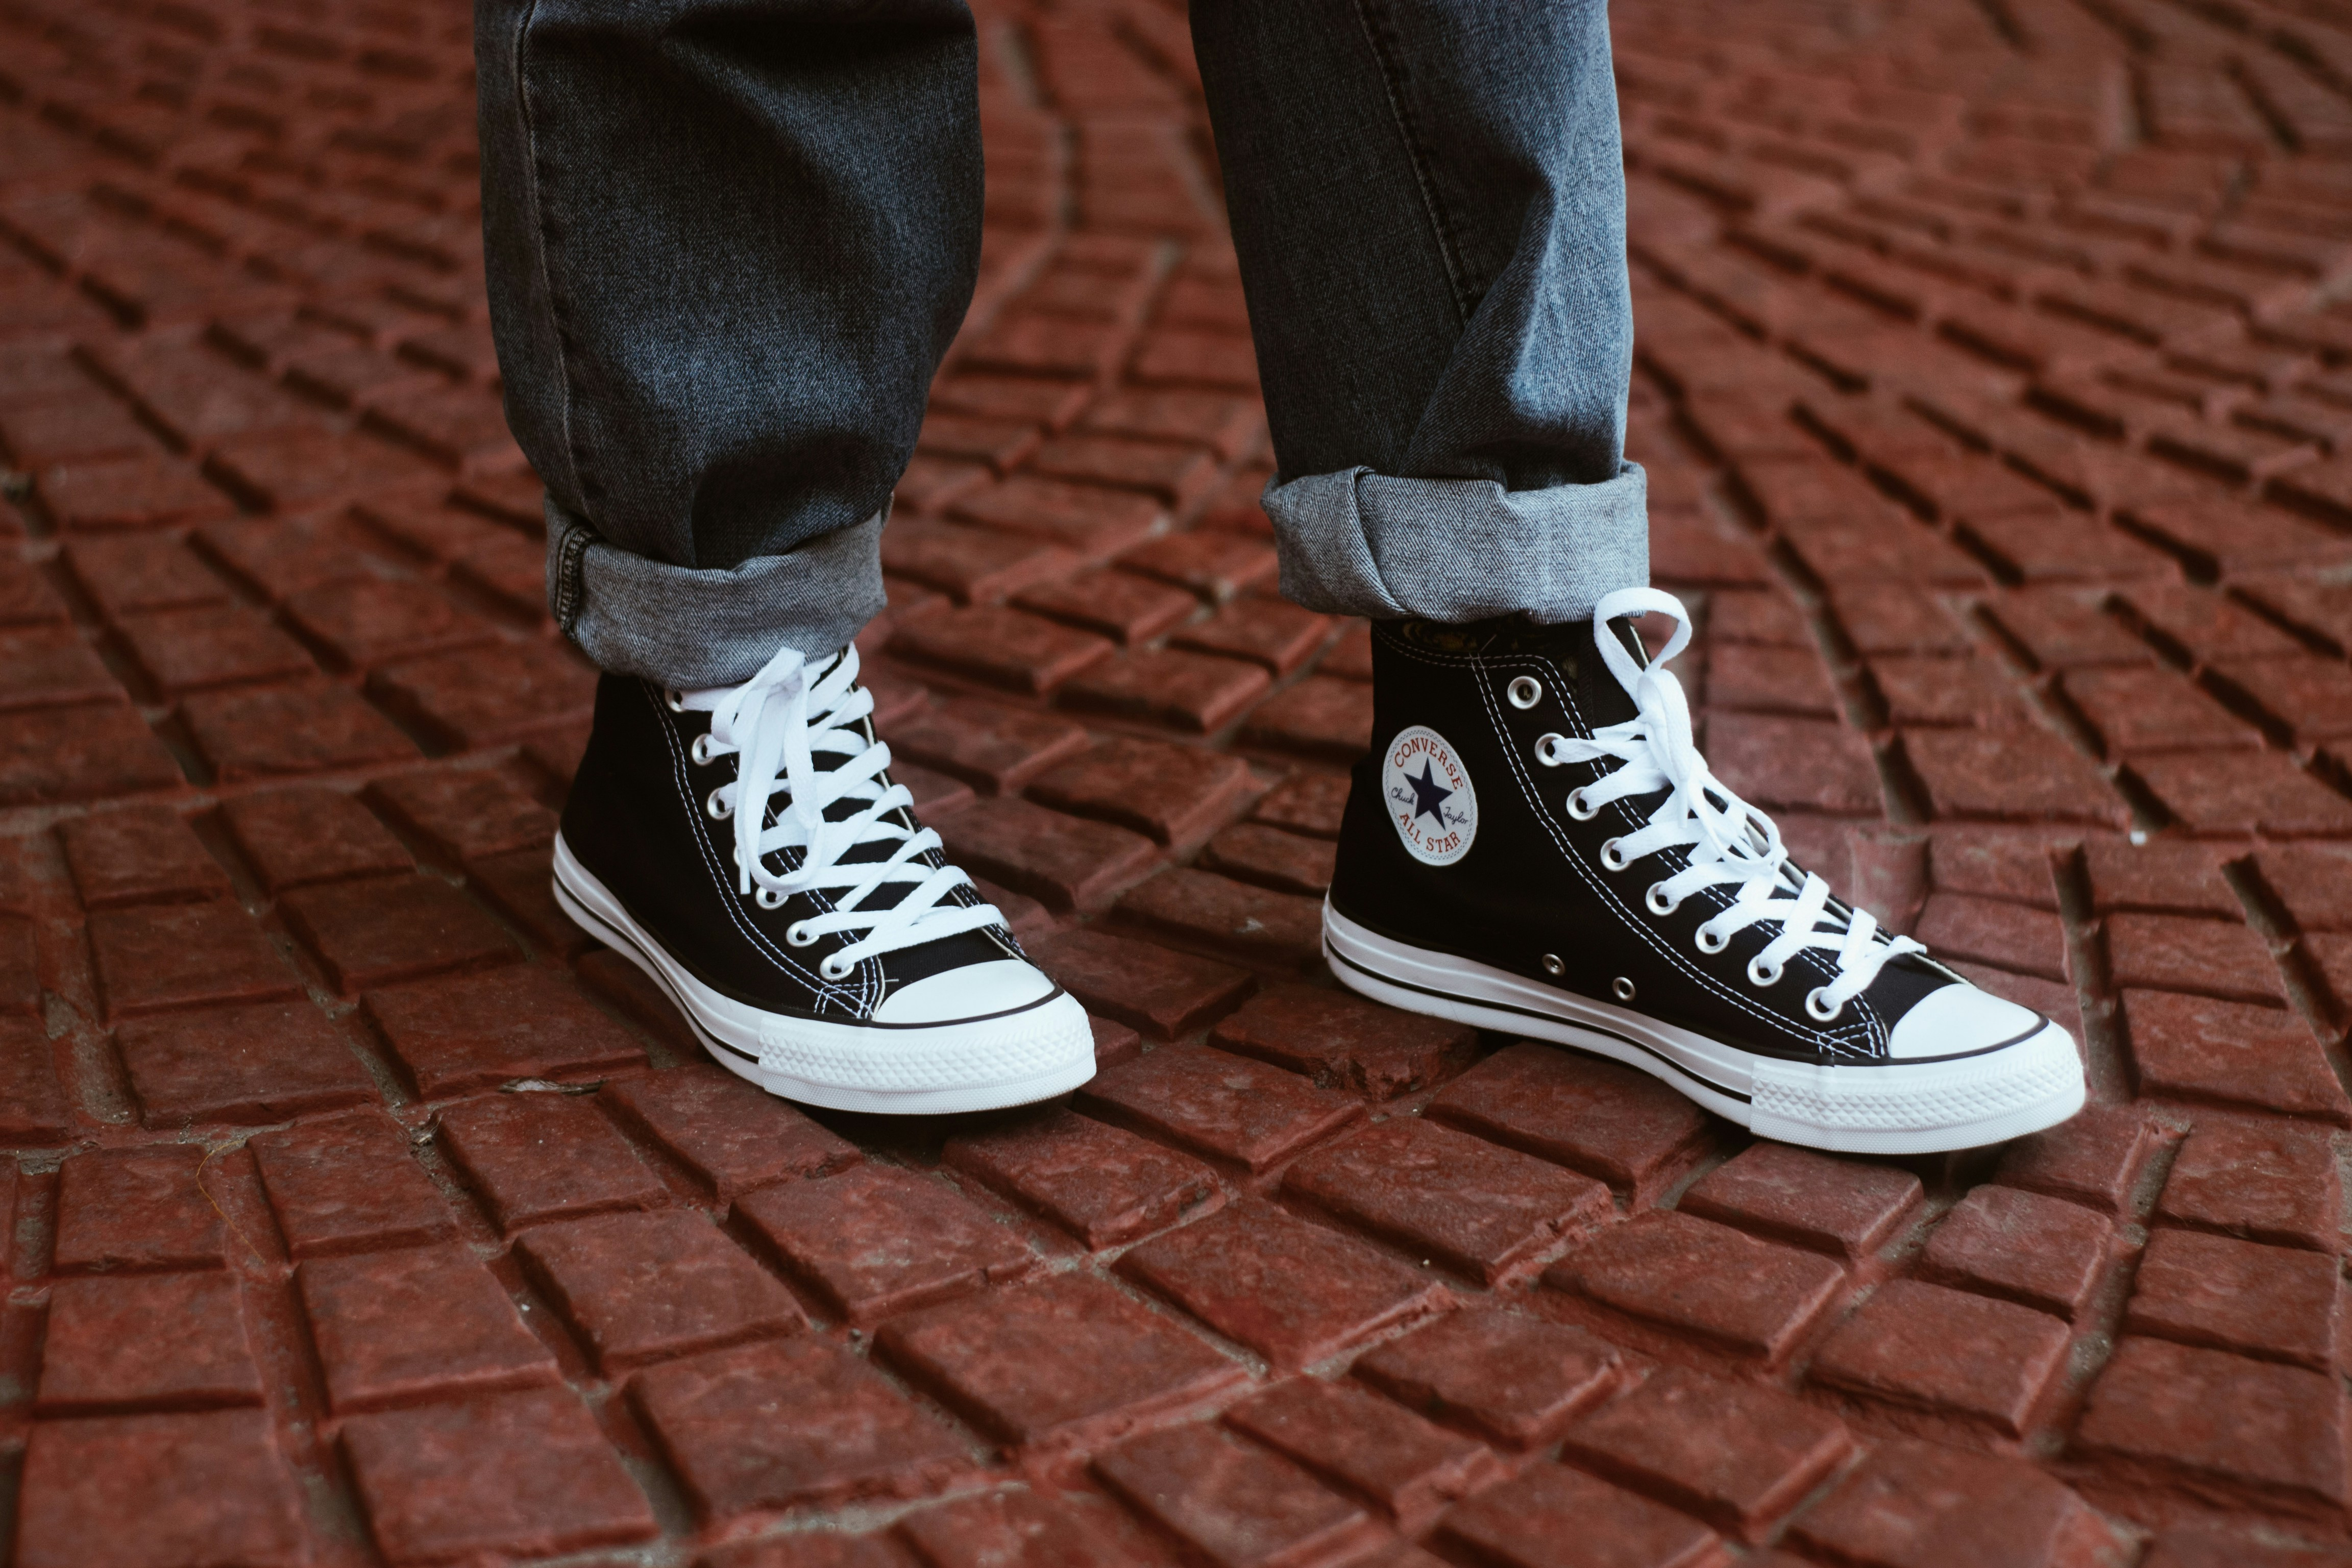Footwear: (1318, 621, 2084, 1155), (518, 661, 1113, 1127)
